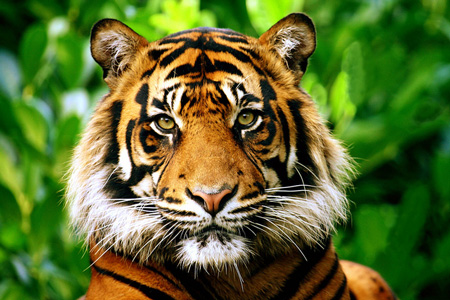Tiger: (77, 22, 371, 300)
